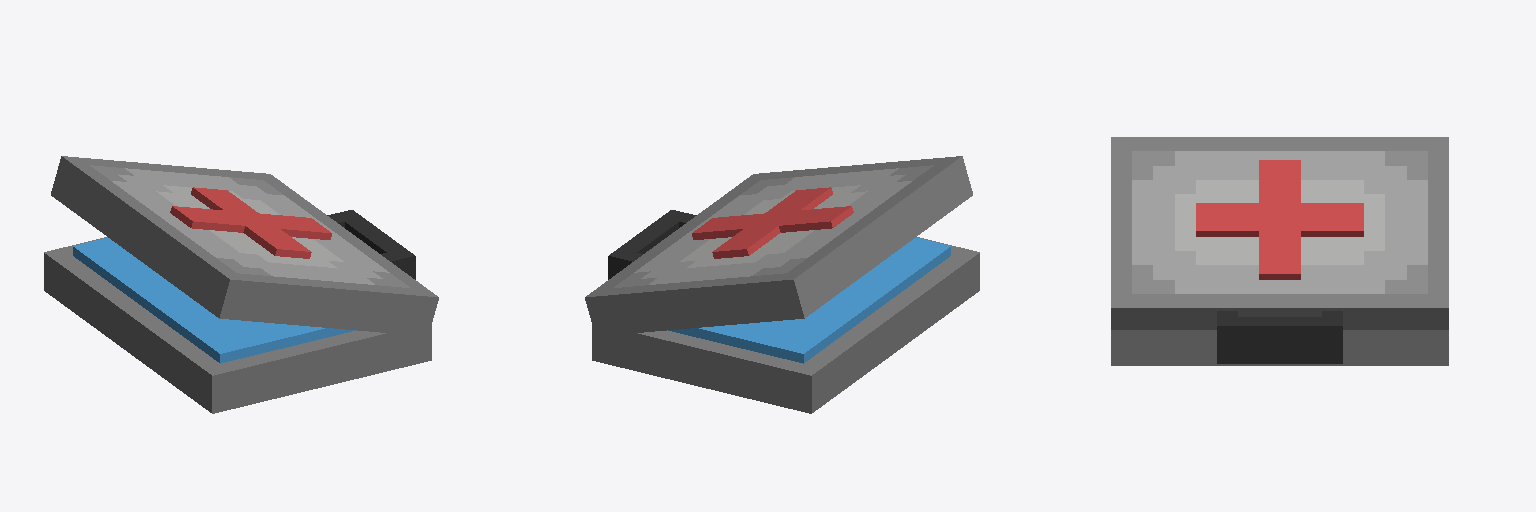
3 renders of one model, left to right at view 1: azimuth 30°, elevation 25°; view 2: azimuth 150°, elevation 25°; view 3: azimuth 270°, elevation 25°, orthographic.
Visible parts, largest first — view 1: основа-верх, основа-низ, наполнение аптечки, крест, ручка; view 2: основа-верх, основа-низ, наполнение аптечки, крест, ручка; view 3: основа-верх, крест, основа-низ, ручка.
Part boxes in pixels (x1,y1,x2,y2): основа-верх: (51,156,438,334); основа-низ: (44,237,431,413); наполнение аптечки: (73,237,355,363); крест: (170,187,331,258); ручка: (327,210,415,279); основа-верх: (585,156,972,336); основа-низ: (592,237,979,413); наполнение аптечки: (668,237,950,363); крест: (692,187,853,258); ручка: (608,210,696,279); основа-верх: (1111,137,1448,329); крест: (1196,160,1363,279); основа-низ: (1111,330,1448,365); ручка: (1217,311,1342,363).
Bounding box in the file's own units: 0.875 × 0.4258 × 1.
Materials: 4 (4 with a texture image).